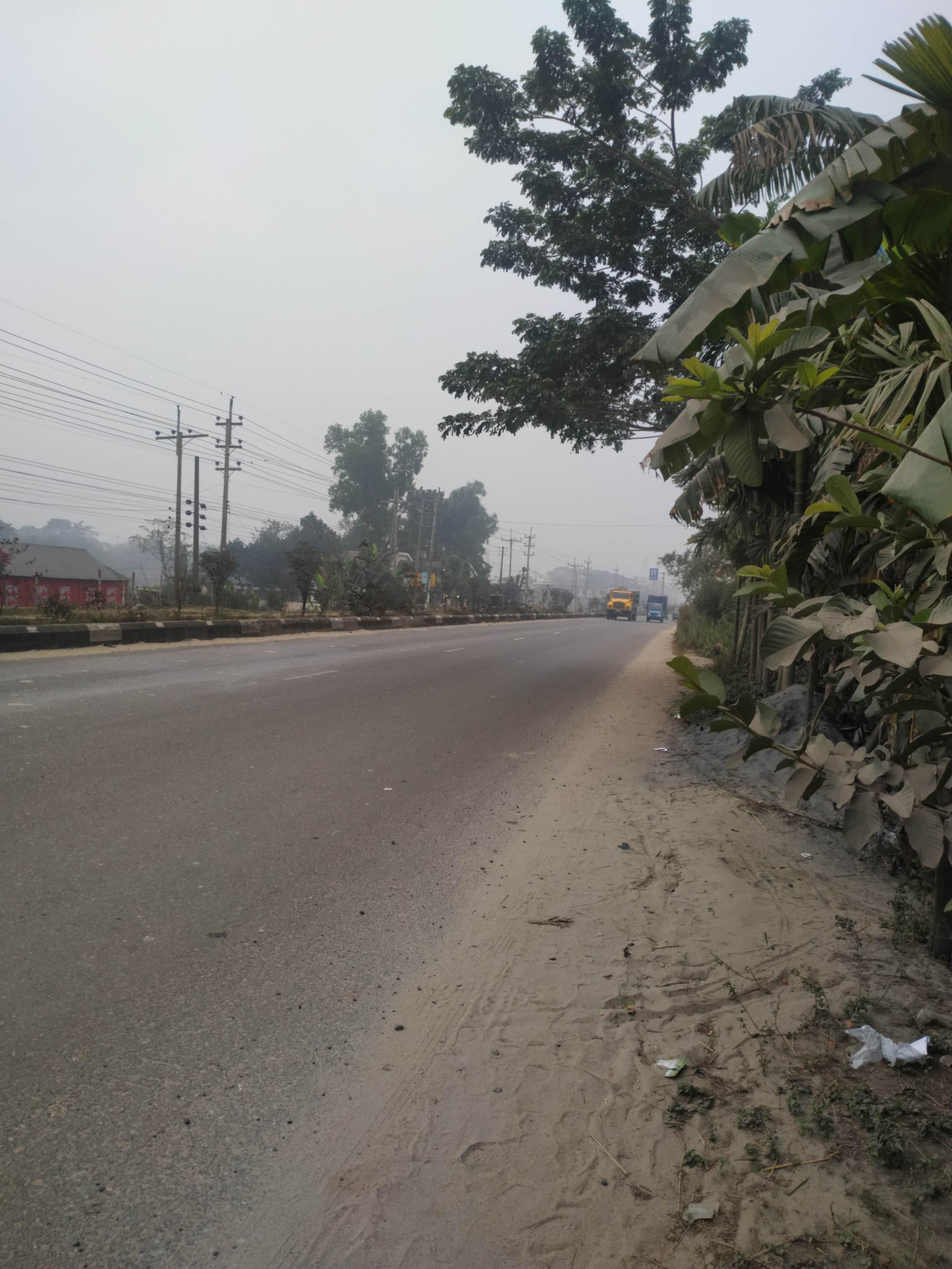Truck: (587, 576, 644, 638), (643, 591, 674, 636)
